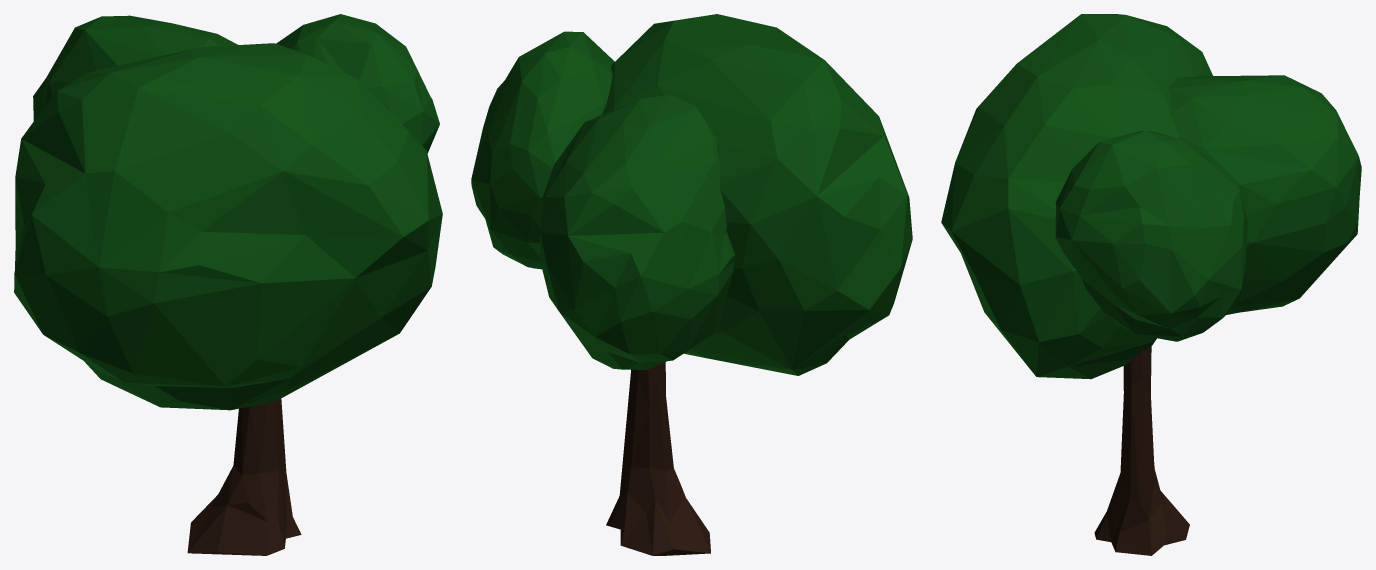
Rendered from SM_tree_16.fbx.
The picture shows the model from 3 angles, left to right: view 1: azimuth 30°, elevation 25°; view 2: azimuth 150°, elevation 25°; view 3: azimuth 270°, elevation 25°; orthographic projection. The views are drawn at different scales.
Visible parts, largest first — view 1: tree_16; view 2: tree_16; view 3: tree_16.
Boxes of the visible parts, x1=… form: tree_16: x1=14, y1=14, x2=442, y2=555; tree_16: x1=471, y1=14, x2=912, y2=555; tree_16: x1=941, y1=14, x2=1361, y2=555.
Bounding box in the file's own units: 653 × 770 × 626.
